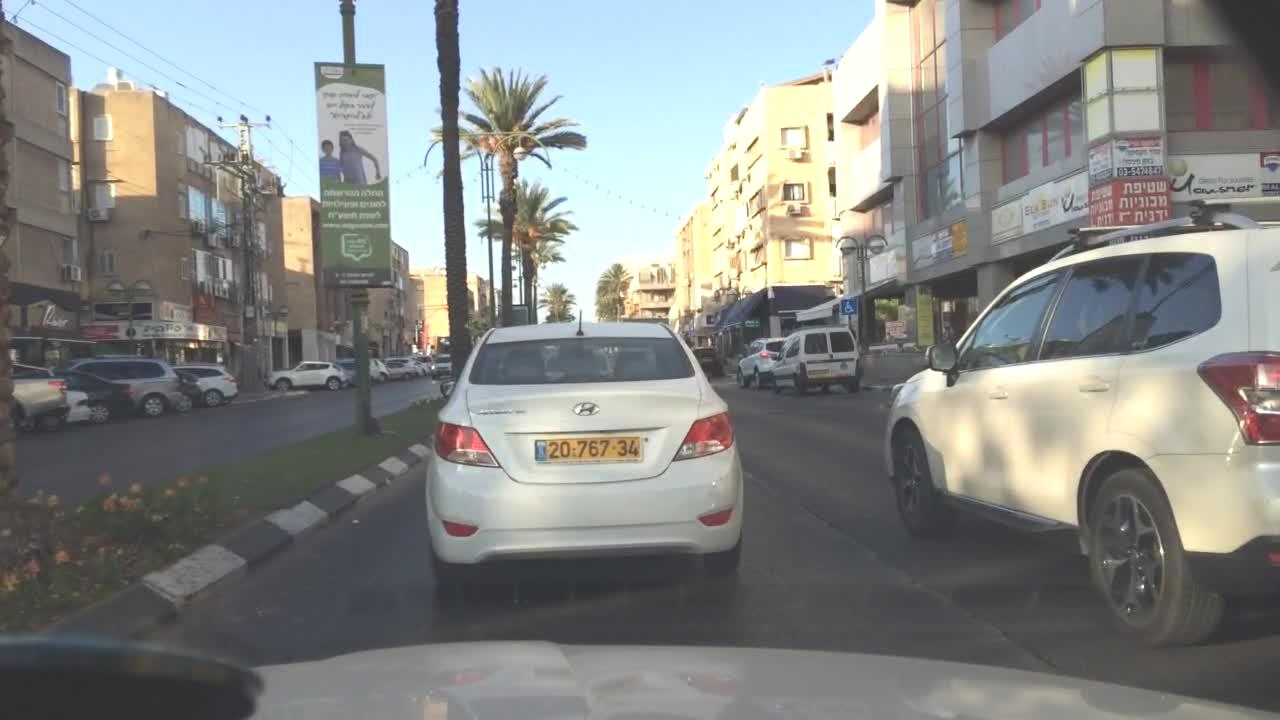Hyundai: (572, 397, 599, 419)
